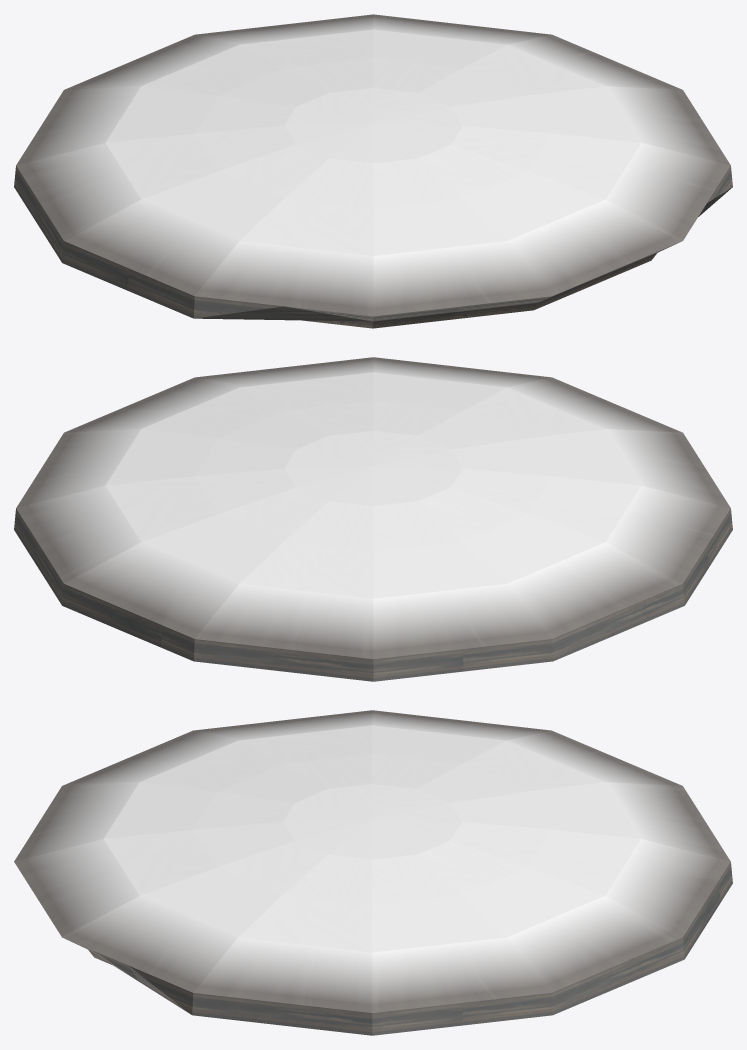
3 views of the same model, one above another, from view 1: azimuth 30°, elevation 25°; view 2: azimuth 150°, elevation 25°; view 3: azimuth 270°, elevation 25° (orthographic).
Visible parts, largest first — view 1: mesh00; view 2: mesh00; view 3: mesh00.
Boxes of the visible parts, x1,y1,x2,y2 form: mesh00: [14, 14, 732, 328]; mesh00: [14, 357, 732, 681]; mesh00: [14, 710, 732, 1035].
Size of the model in its own units: 99435 by 16314 by 99152.
1 material, 1 textured.
